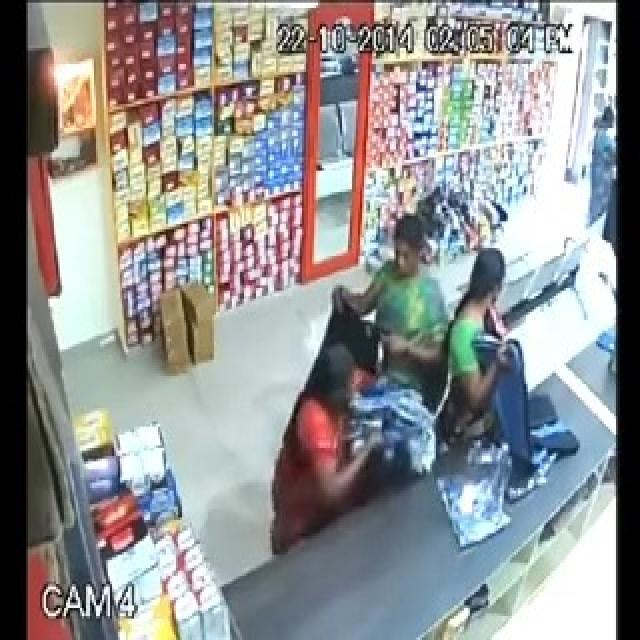Normal: (264, 332, 446, 556), (448, 220, 560, 490), (330, 192, 450, 428)
